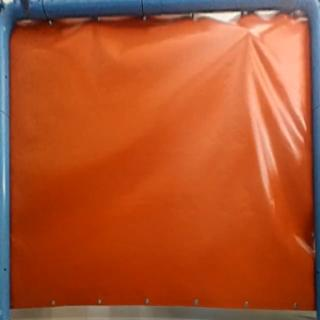Hit-hRxx: (241, 26, 257, 40)
